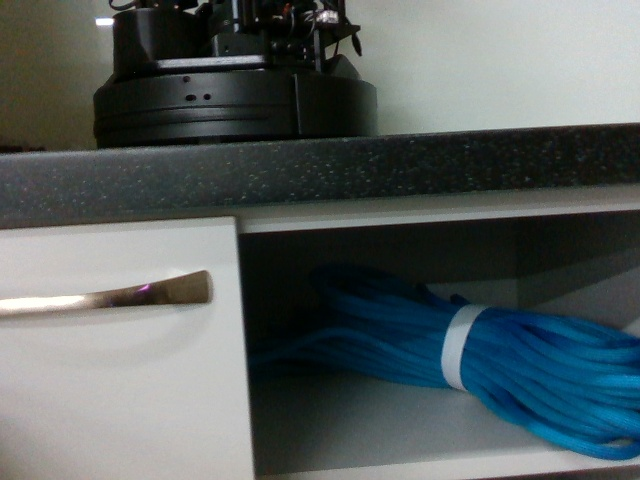rope: (334, 295, 640, 458)
